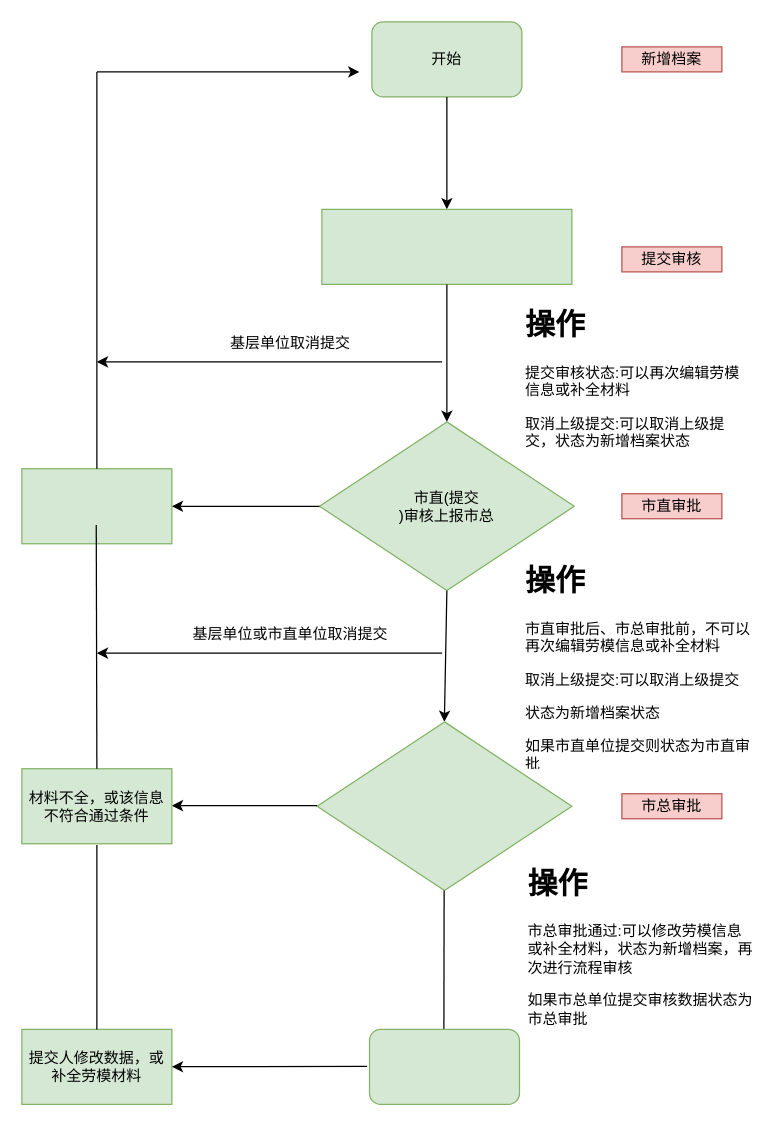
Some shapes in this 781 by 1126 pixel diagram are drawn without their labels. The shapes that lost their labels are listed below. From the top down, each one's centre as x and y in pixels, then its label:
point (446, 246): 基层单位提交审核上报市直单位
point (96, 506): 材料不全，或劳模信息不全
point (444, 806): 市总审核通过
point (444, 1066): 结束
